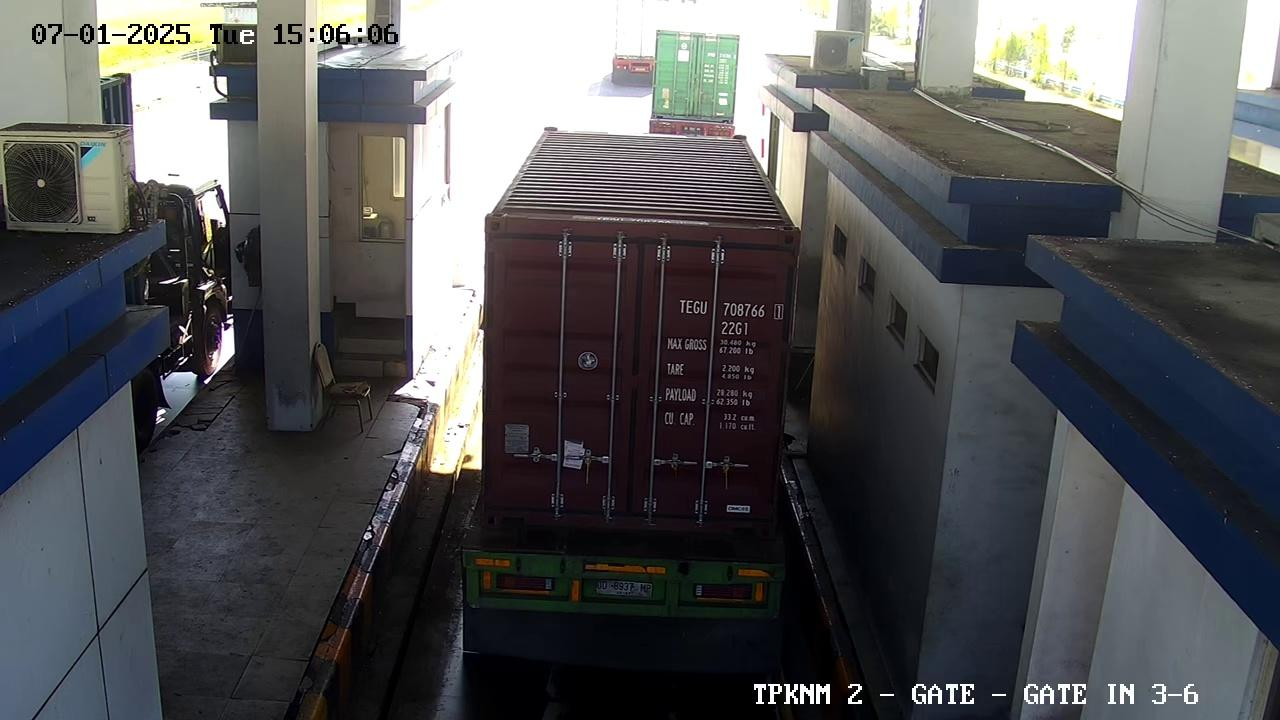Container_ID: (672, 291, 791, 326)
